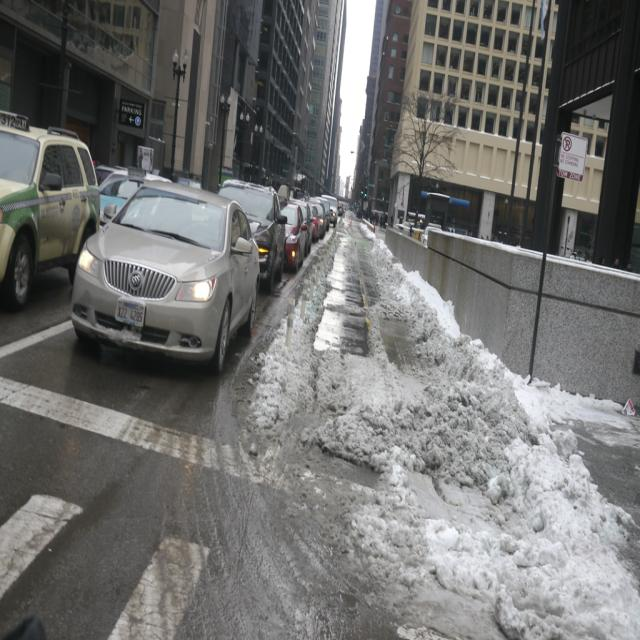car: (63, 174, 260, 375)
